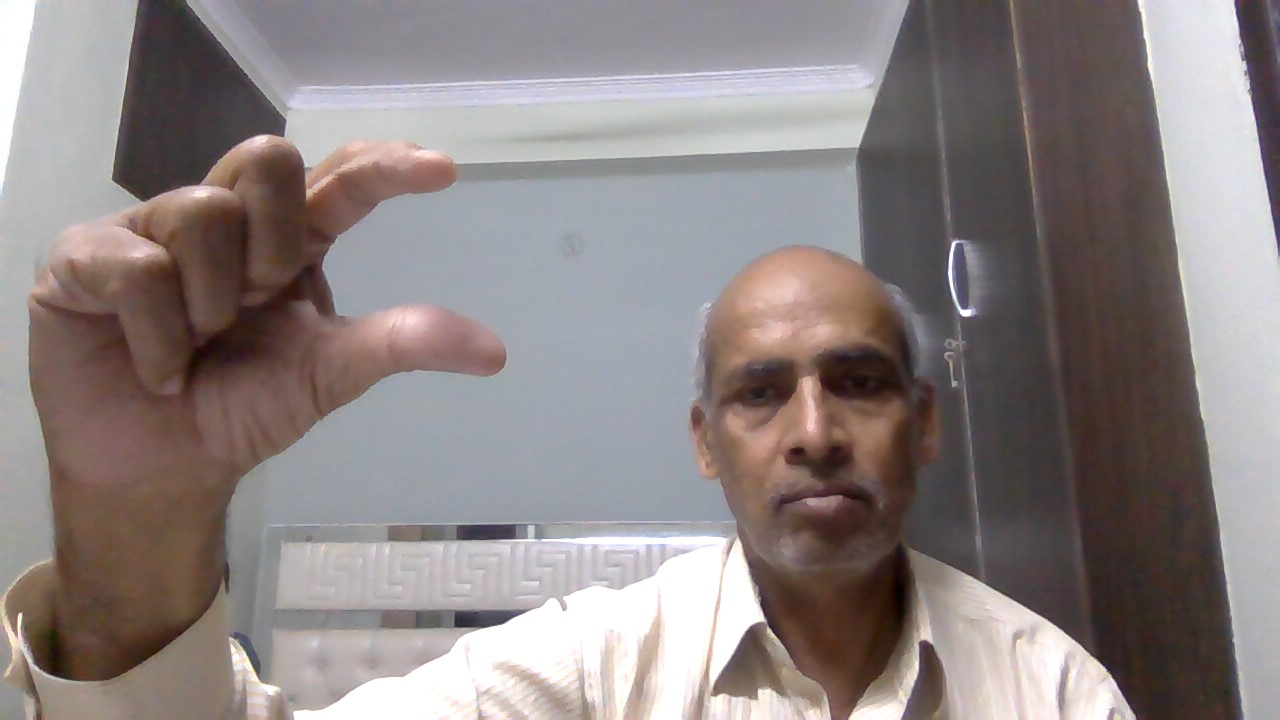Paste: (11, 121, 519, 494)
